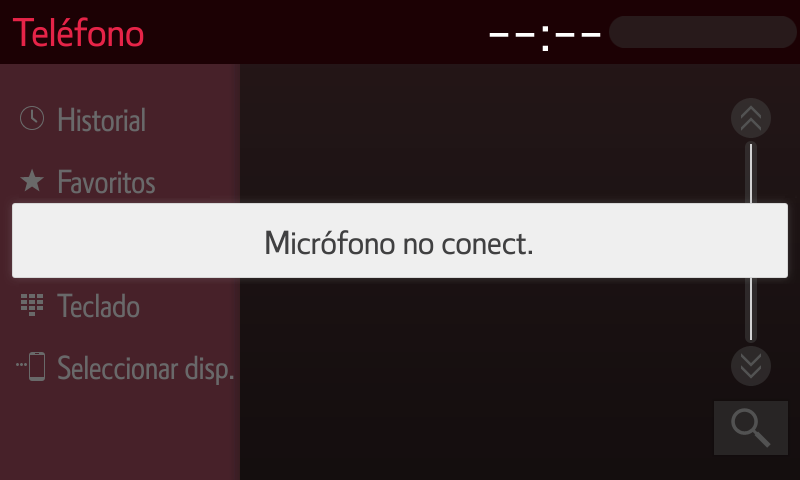untouchPart: (478, 12, 791, 55), (11, 347, 233, 392), (712, 394, 791, 466), (11, 10, 147, 50), (16, 102, 168, 136), (18, 162, 162, 195), (14, 286, 145, 321), (728, 340, 780, 391), (726, 91, 776, 143)
